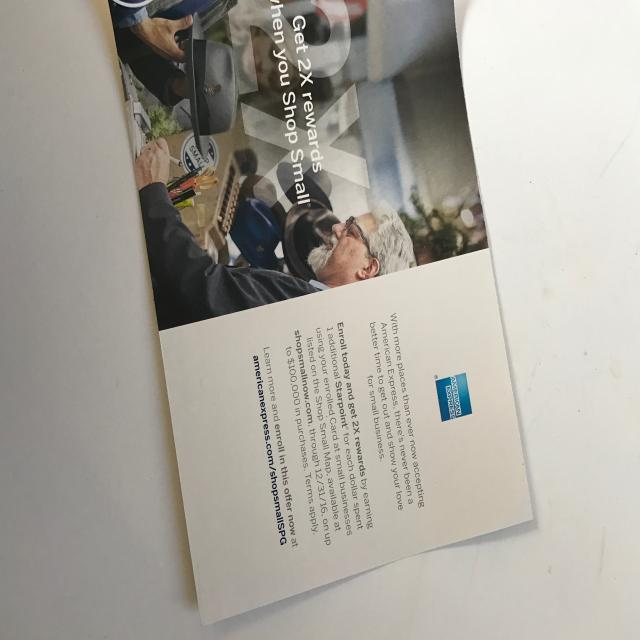paper: (68, 0, 566, 640)
